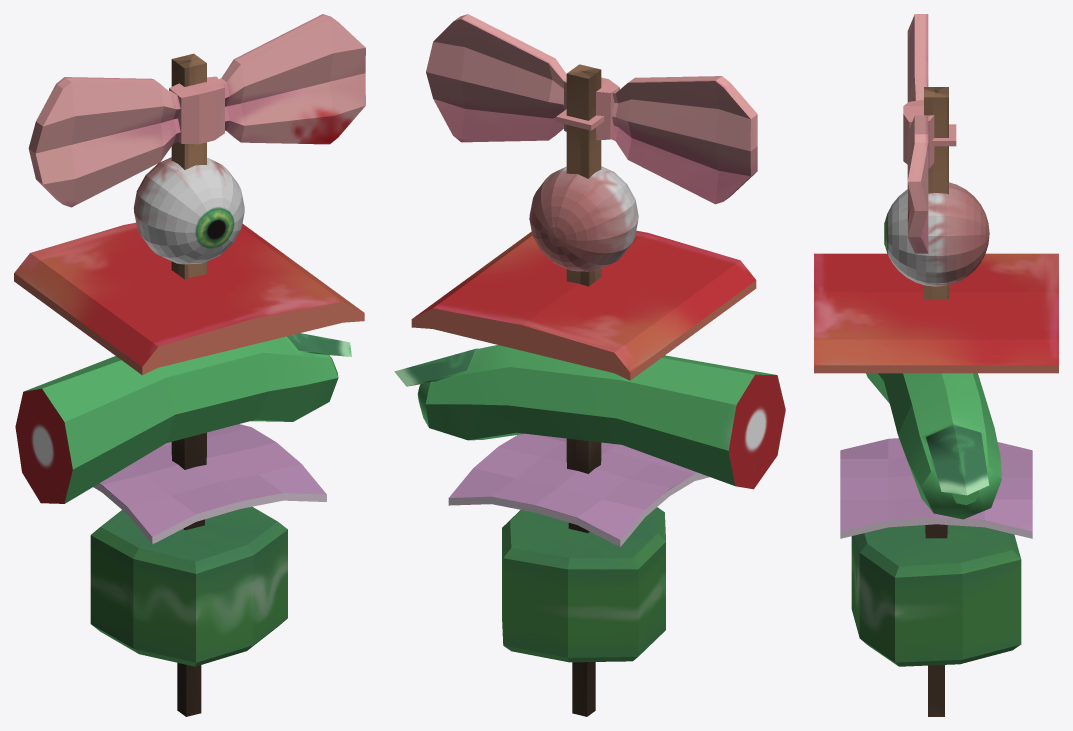
Rendered from recipe_siskabob_v05.fbx.
3 renders of one model, left to right at view 1: azimuth 30°, elevation 25°; view 2: azimuth 150°, elevation 25°; view 3: azimuth 270°, elevation 25°, orthographic. The views are drawn at different scales.
Visible parts, largest first — view 1: Arm_Finger, Red Pepper, Bow, SuspiciousMeat01.001, Onion, eyeball, Kabob, BowKnot; view 2: Arm_Finger, Red Pepper, Bow, SuspiciousMeat01.001, Onion, eyeball, Kabob, BowKnot; view 3: Red Pepper, SuspiciousMeat01.001, Arm_Finger, Onion, eyeball, Bow, Kabob, BowKnot.
Boxes of the visible parts, bbox=[...] form: Arm_Finger: bbox=[15, 333, 351, 503]; Red Pepper: bbox=[14, 222, 364, 375]; Bow: bbox=[28, 14, 365, 207]; SuspiciousMeat01.001: bbox=[90, 506, 287, 666]; Onion: bbox=[93, 424, 326, 544]; eyeball: bbox=[133, 157, 244, 264]; Kabob: bbox=[171, 53, 206, 716]; BowKnot: bbox=[169, 76, 224, 144]; Arm_Finger: bbox=[394, 345, 785, 489]; Red Pepper: bbox=[411, 230, 756, 380]; Bow: bbox=[426, 14, 757, 204]; SuspiciousMeat01.001: bbox=[502, 507, 665, 662]; Onion: bbox=[448, 433, 709, 547]; eyeball: bbox=[529, 166, 638, 271]; Kabob: bbox=[566, 64, 601, 716]; BowKnot: bbox=[564, 77, 619, 140]; Red Pepper: bbox=[814, 253, 1058, 373]; SuspiciousMeat01.001: bbox=[851, 525, 1021, 666]; Arm_Finger: bbox=[866, 373, 1001, 519]; Onion: bbox=[840, 438, 1032, 538]; eyeball: bbox=[884, 182, 989, 286]; Bow: bbox=[907, 14, 928, 253]; Kabob: bbox=[924, 87, 948, 716]; BowKnot: bbox=[903, 99, 934, 168].
Bounding box in the file's own units: 16.75 × 31.35 × 10.88.
